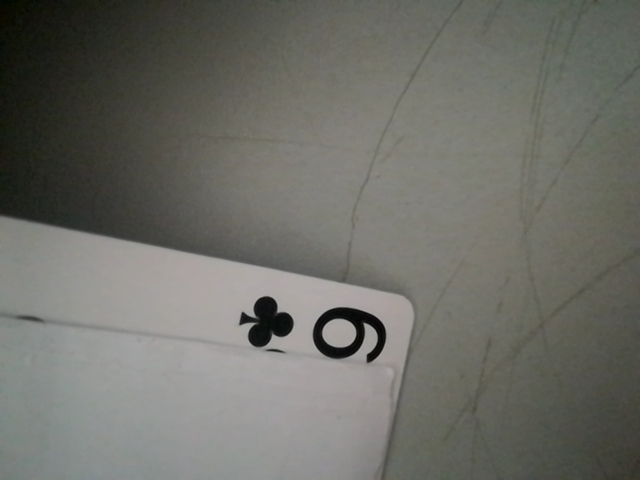mh 6: (222, 287, 401, 372)
